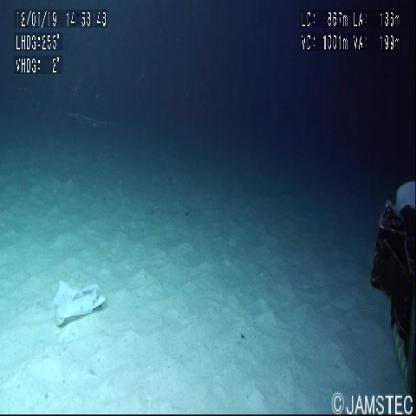Rác: (55, 281, 103, 329)
